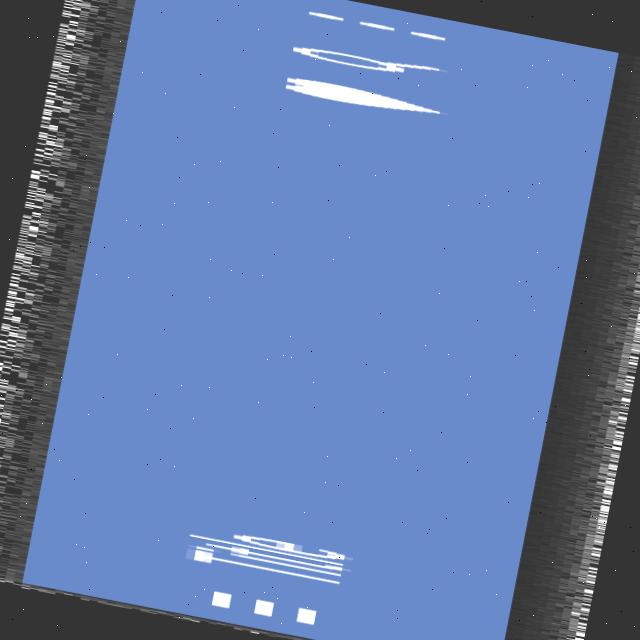QLabel: (178, 521, 372, 596)
VAppBar: (0, 0, 640, 640)
VIcon: (270, 71, 454, 123), (288, 38, 460, 88), (291, 5, 478, 48), (188, 585, 333, 628)
